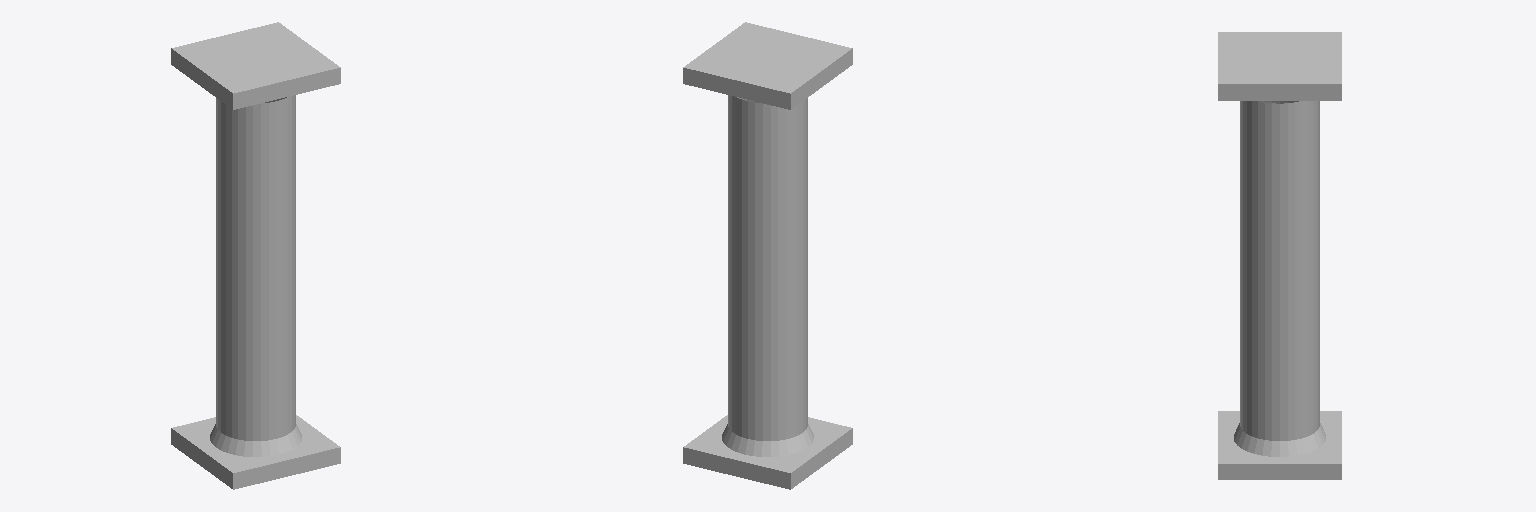
Rendered from column.obj.
3 views of the same model, side by side, from view 1: azimuth 30°, elevation 25°; view 2: azimuth 150°, elevation 25°; view 3: azimuth 270°, elevation 25° (orthographic).
Bounding box in the file's own units: 3.1 × 10.91 × 3.1.